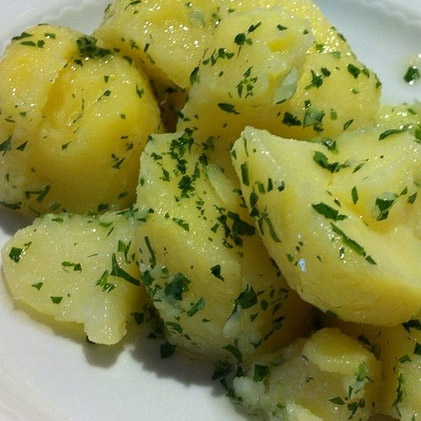boiled potatoes: (7, 5, 418, 418)
